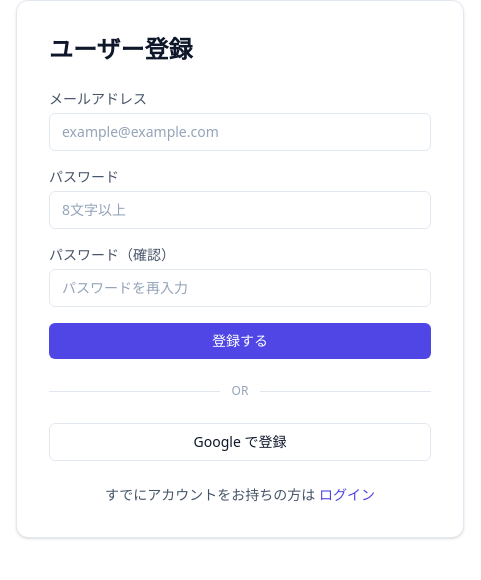
RegisterForm › パスワードのバリデーションエラー表示
Step 1. Type "test@example.com" into the field labelled "メールアドレス" → (240, 132), box left=49, top=113, right=431, bottom=151
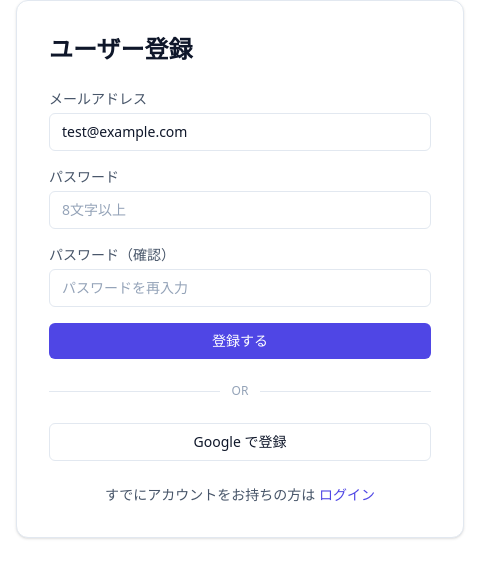
Step 2. Type "short" into the password field labelled "パスワード" → (240, 210), box left=49, top=191, right=431, bottom=229
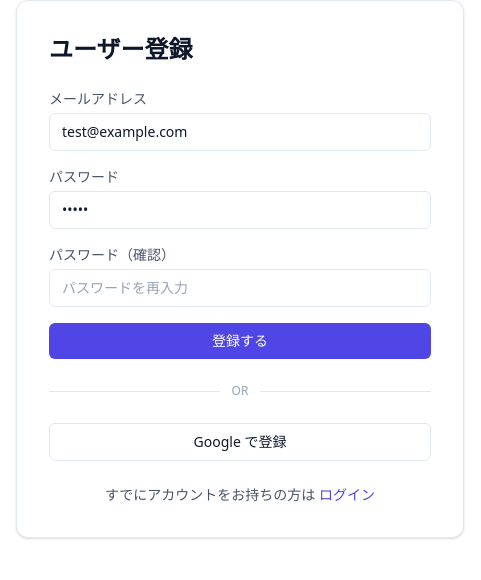
Step 3. Type "short" into the password field labelled "パスワード（確認）" → (240, 288), box left=49, top=269, right=431, bottom=307
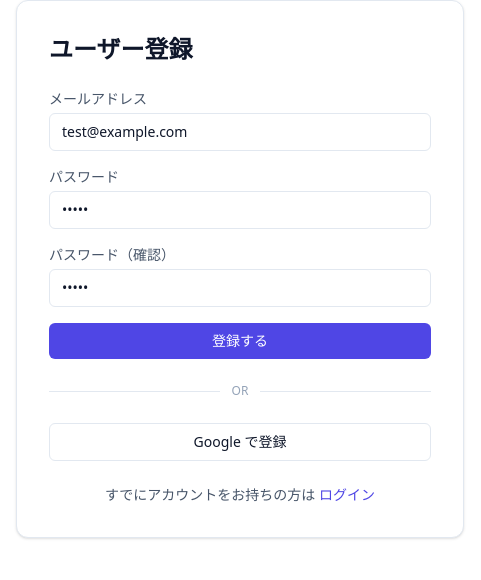
Step 4. Submit the text "登録する", box left=49, top=89, right=431, bottom=359
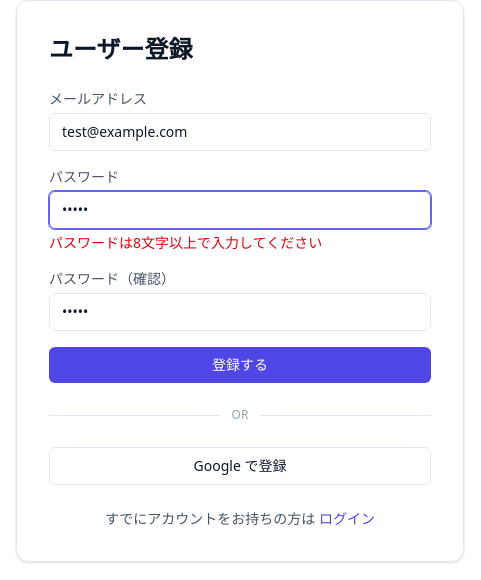
Result: the text "パスワードは8文字以上で入力してください" is shown at left=49, top=233, right=322, bottom=252
